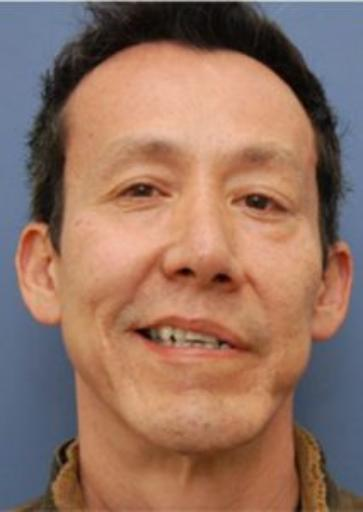left_eye: (228, 193, 290, 220)
left_lip_corner: (242, 339, 259, 361)
right_eye: (111, 184, 174, 209)
right_lip_corner: (121, 322, 145, 342)
